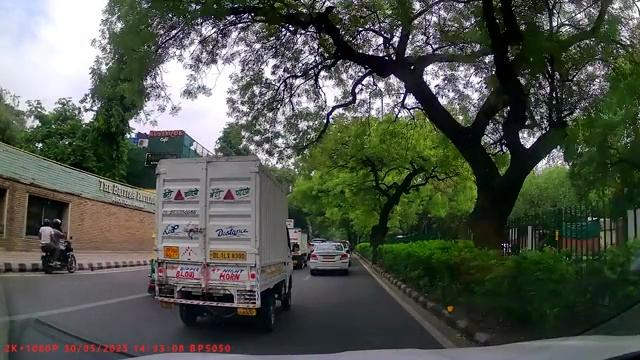passenger_with_helmet: (38, 216, 79, 275)
